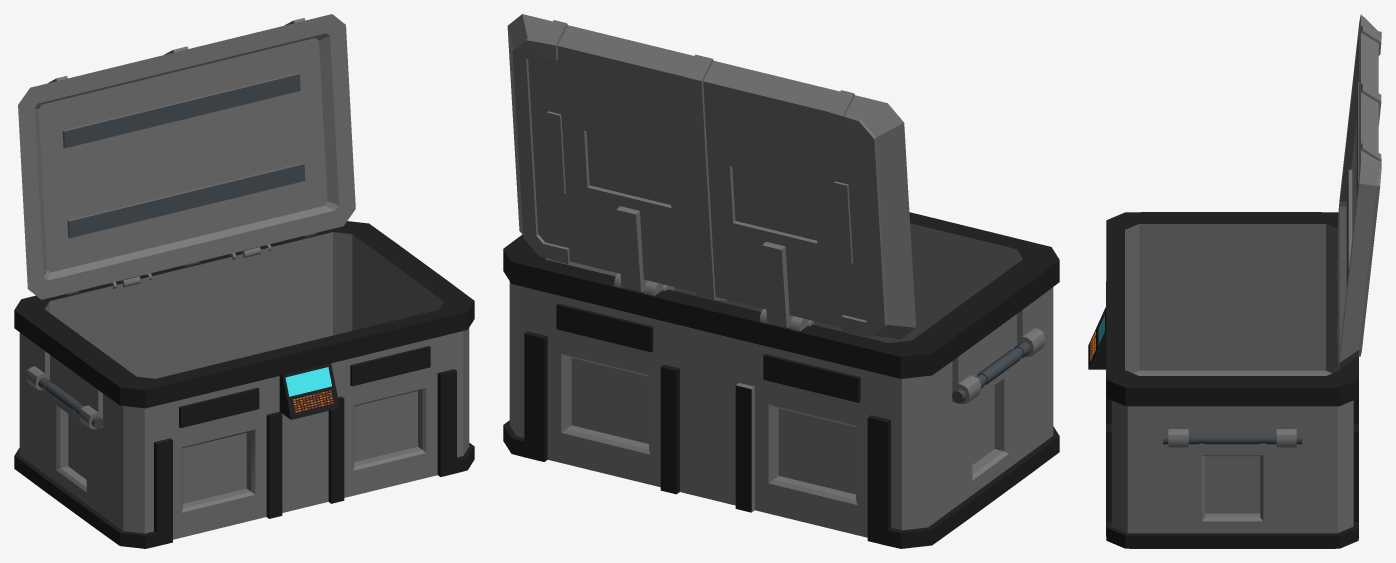
The picture shows the model from 3 angles, left to right: view 1: azimuth 30°, elevation 25°; view 2: azimuth 150°, elevation 25°; view 3: azimuth 270°, elevation 25°; orthographic projection. The views are drawn at different scales.
Parts seen in each view (by area): view 1: Box3_Low, Box3_Top; view 2: Box3_Low, Box3_Top; view 3: Box3_Low, Box3_Top.
Part boxes in pixels (x1,y1,x2,y2): Box3_Low: [14, 221, 474, 548]; Box3_Top: [18, 14, 355, 299]; Box3_Low: [503, 212, 1059, 548]; Box3_Top: [507, 14, 915, 339]; Box3_Low: [1088, 212, 1358, 548]; Box3_Top: [1337, 14, 1381, 369].
Bounding box in the file's own units: 160 × 151 × 107.
